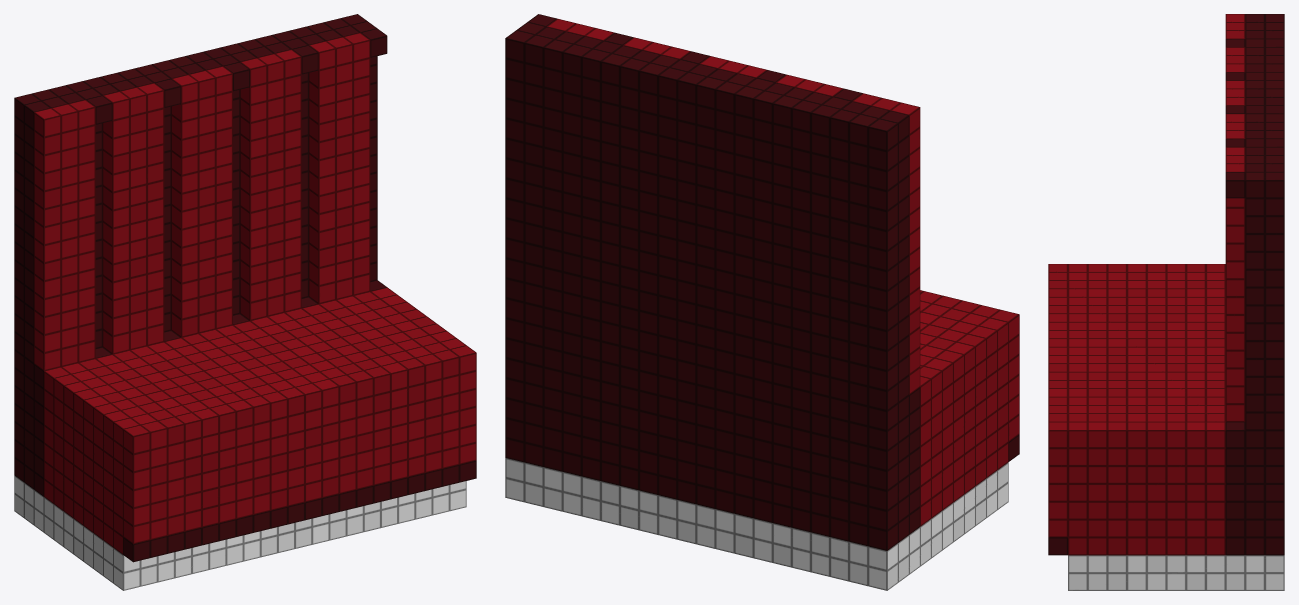
The model's file is banquette_straight.glb.
3 renders of one model, left to right at view 1: azimuth 30°, elevation 25°; view 2: azimuth 150°, elevation 25°; view 3: azimuth 270°, elevation 25°, orthographic. The views are drawn at different scales.
Visible parts, largest first — view 1: banquette_straight; view 2: banquette_straight; view 3: banquette_straight.
Boxes of the visible parts, <box> form: banquette_straight: <box>14,14,476,590</box>; banquette_straight: <box>505,14,1019,590</box>; banquette_straight: <box>1048,14,1284,590</box>.
Bounding box in the file's own units: 1 × 1.15 × 0.6.
3 materials, 3 textured.
